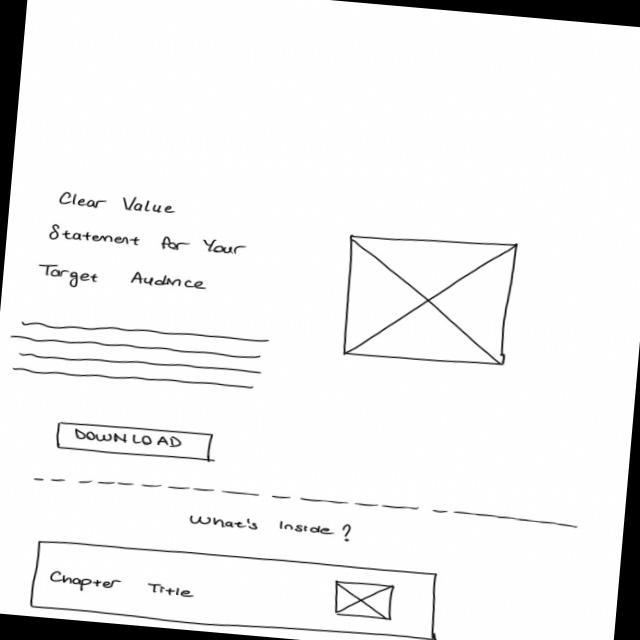button: (55, 419, 216, 466)
container: (27, 535, 443, 640)
image: (339, 228, 522, 372), (332, 580, 396, 624)
label: (47, 224, 249, 260), (188, 510, 356, 544), (58, 191, 180, 219), (49, 570, 125, 596), (128, 271, 209, 293), (38, 264, 101, 292), (147, 582, 198, 600)
text: (7, 316, 273, 397)
